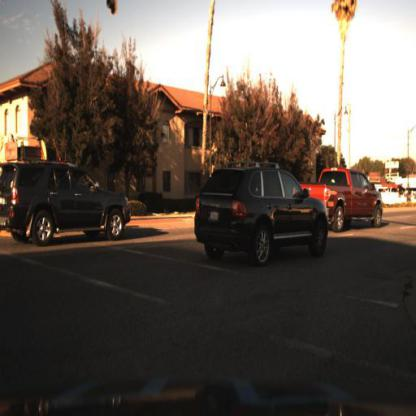car: (193, 163, 329, 266), (2, 160, 133, 249), (295, 168, 385, 234)
